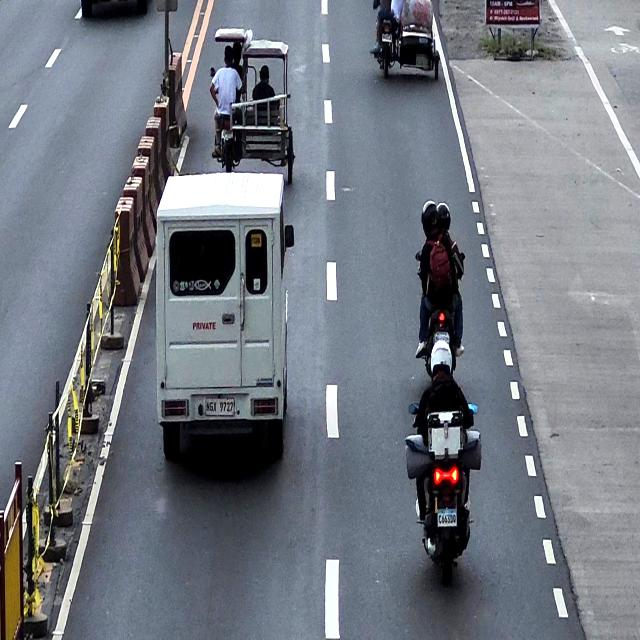Car: (155, 170, 294, 460)
License-Plate: (203, 395, 236, 417), (435, 508, 458, 528), (220, 126, 235, 141), (434, 330, 449, 344), (381, 31, 393, 43)
Motorcycle: (405, 399, 482, 584), (415, 247, 466, 381)
Tricycle: (210, 26, 296, 184), (371, 0, 440, 81)
